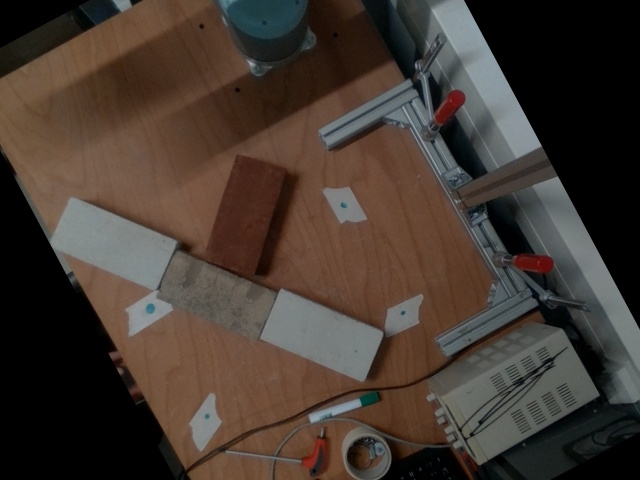brick: (50, 196, 176, 290), (155, 251, 274, 339), (261, 293, 380, 379), (203, 155, 283, 274)
